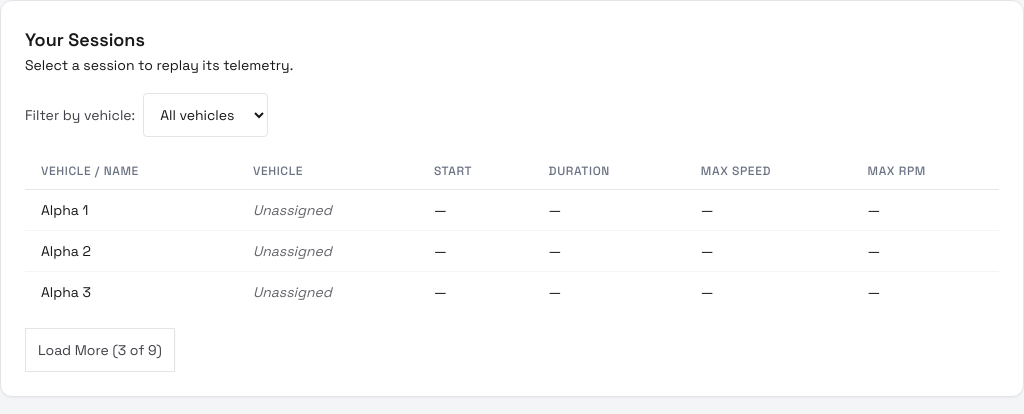
it: SessionBrowser pagination (jsdom) › starts a fresh page-0 query when the vehicle filter changes
Select "Car A" in the dropdown labelled "Filter by vehicle:" at (206,115), box [143,93,268,137]
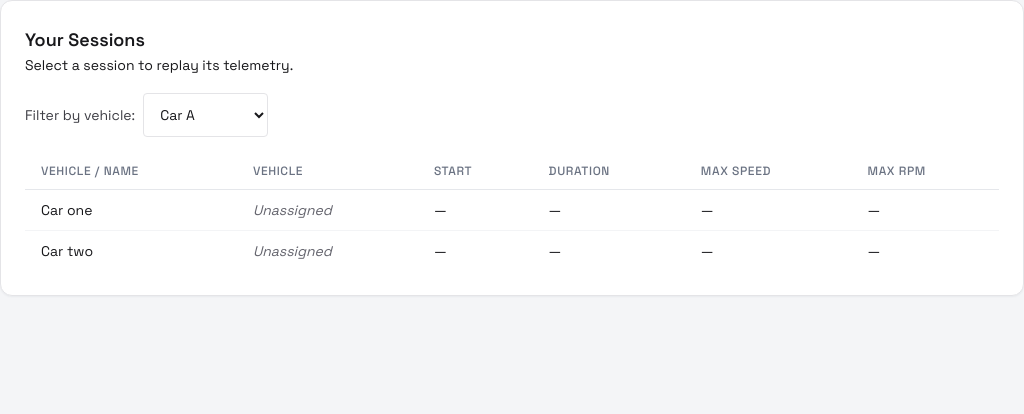
Expected: the button "Alpha 1" no longer shows "Alpha 1"
